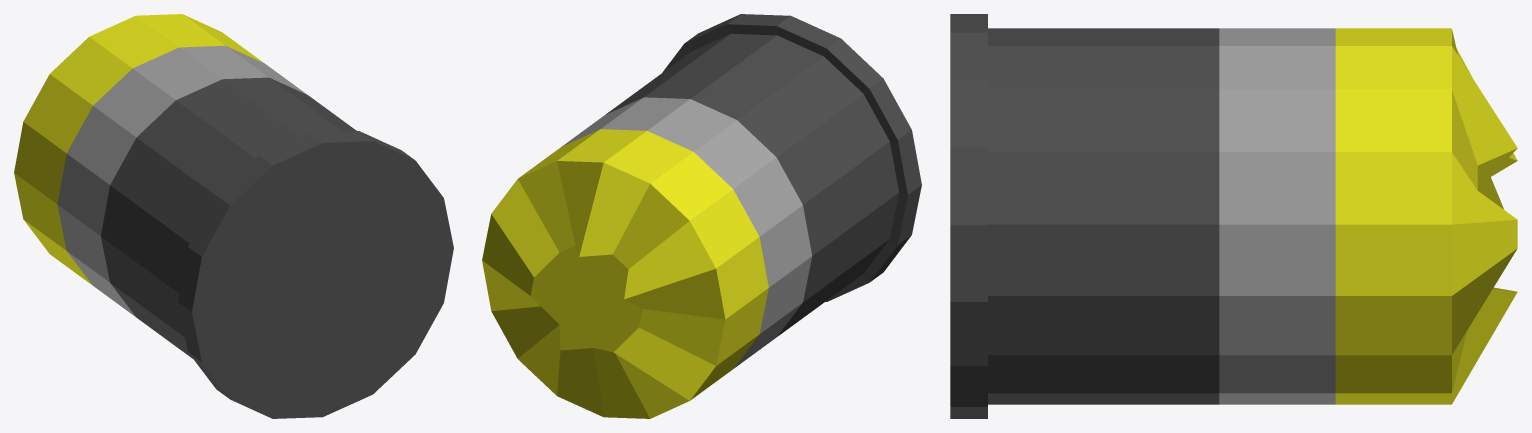
The model's file is GrenadeBullet.gltf.
The picture shows the model from 3 angles, left to right: view 1: azimuth 30°, elevation 25°; view 2: azimuth 150°, elevation 25°; view 3: azimuth 270°, elevation 25°; orthographic projection. The views are drawn at different scales.
Visible parts, largest first — view 1: 円錐; view 2: 円錐; view 3: 円錐.
Boxes of the visible parts, x1,y1,x2,y2 form: 円錐: (14, 14, 453, 418); 円錐: (482, 14, 921, 418); 円錐: (950, 14, 1517, 418).
Bounding box in the file's own units: 0.4836 × 0.4836 × 0.6771.
